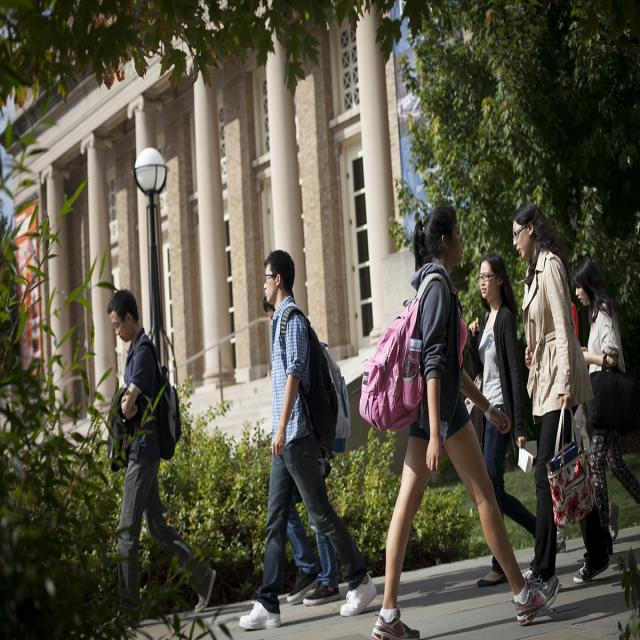body: (357, 198, 563, 639), (236, 246, 381, 632), (177, 529, 640, 637), (90, 286, 220, 638), (510, 198, 616, 598), (262, 289, 342, 607), (466, 252, 539, 590), (568, 254, 639, 562)
